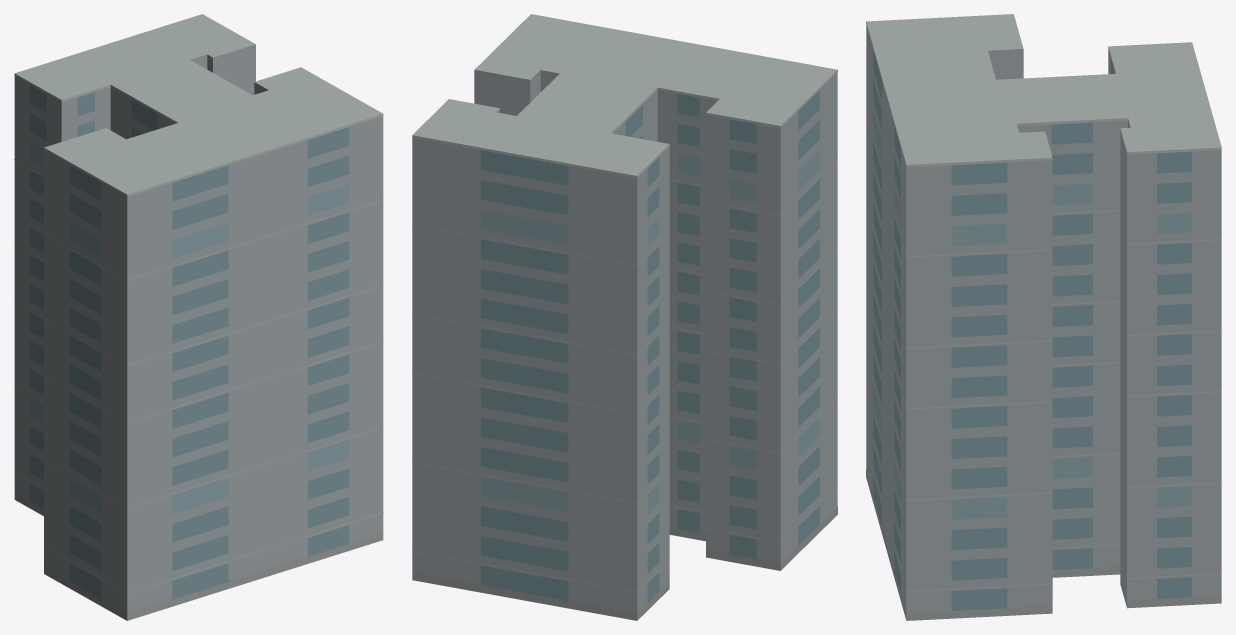
The model's file is residential-4dee2b38-4811-4b4f-85f8-23a82dd72fbe.glb.
3 views of the same model, side by side, from view 1: azimuth 30°, elevation 25°; view 2: azimuth 150°, elevation 25°; view 3: azimuth 270°, elevation 25° (orthographic). The views are drawn at different scales.
Parts seen in each view (by area): view 1: residential-4dee2b38-4811-4b4f-85f8-23a82dd72fbe.tmp; view 2: residential-4dee2b38-4811-4b4f-85f8-23a82dd72fbe.tmp; view 3: residential-4dee2b38-4811-4b4f-85f8-23a82dd72fbe.tmp.
Boxes of the visible parts, left/top/right/bottom form: residential-4dee2b38-4811-4b4f-85f8-23a82dd72fbe.tmp: left=14, top=14, right=383, bottom=620; residential-4dee2b38-4811-4b4f-85f8-23a82dd72fbe.tmp: left=412, top=14, right=837, bottom=620; residential-4dee2b38-4811-4b4f-85f8-23a82dd72fbe.tmp: left=866, top=14, right=1221, bottom=620.
Bounding box in the file's own units: 32.51 × 45.75 × 32.37.
